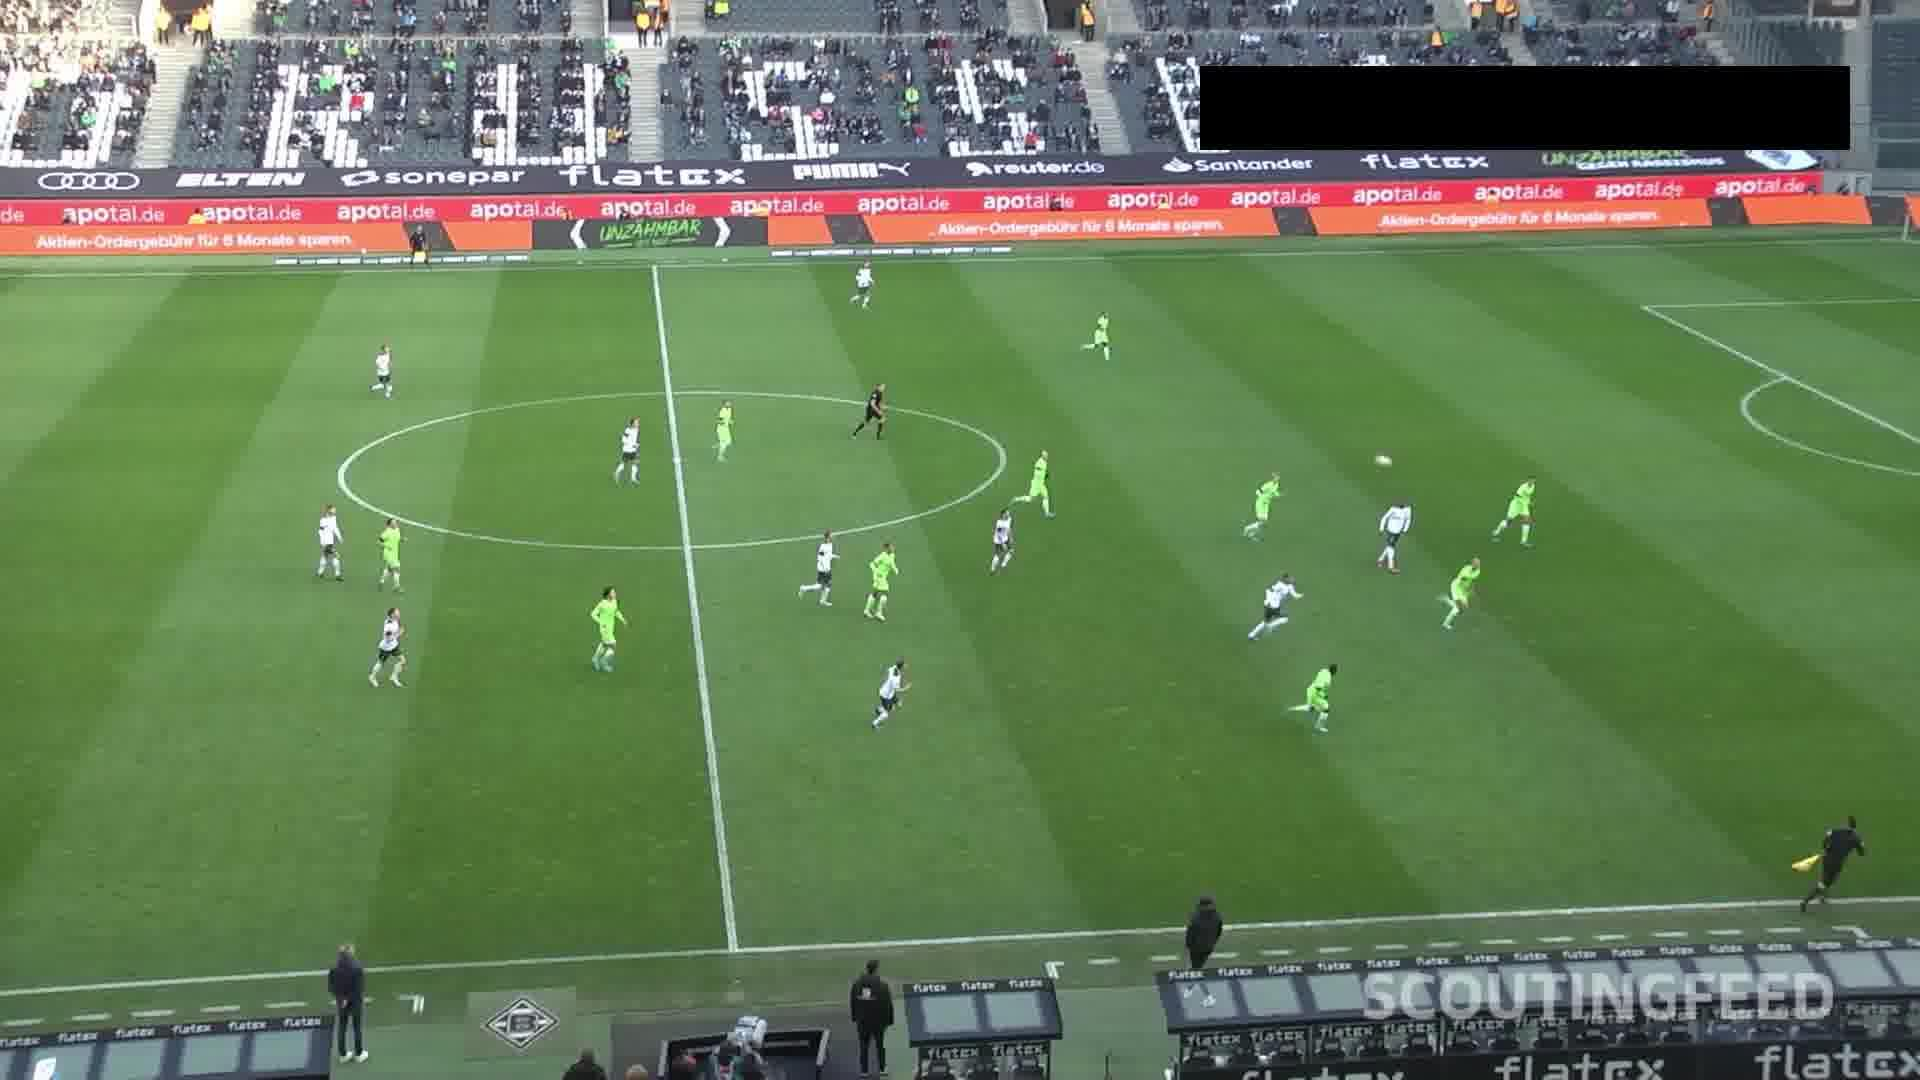football: (1373, 452, 1394, 471)
